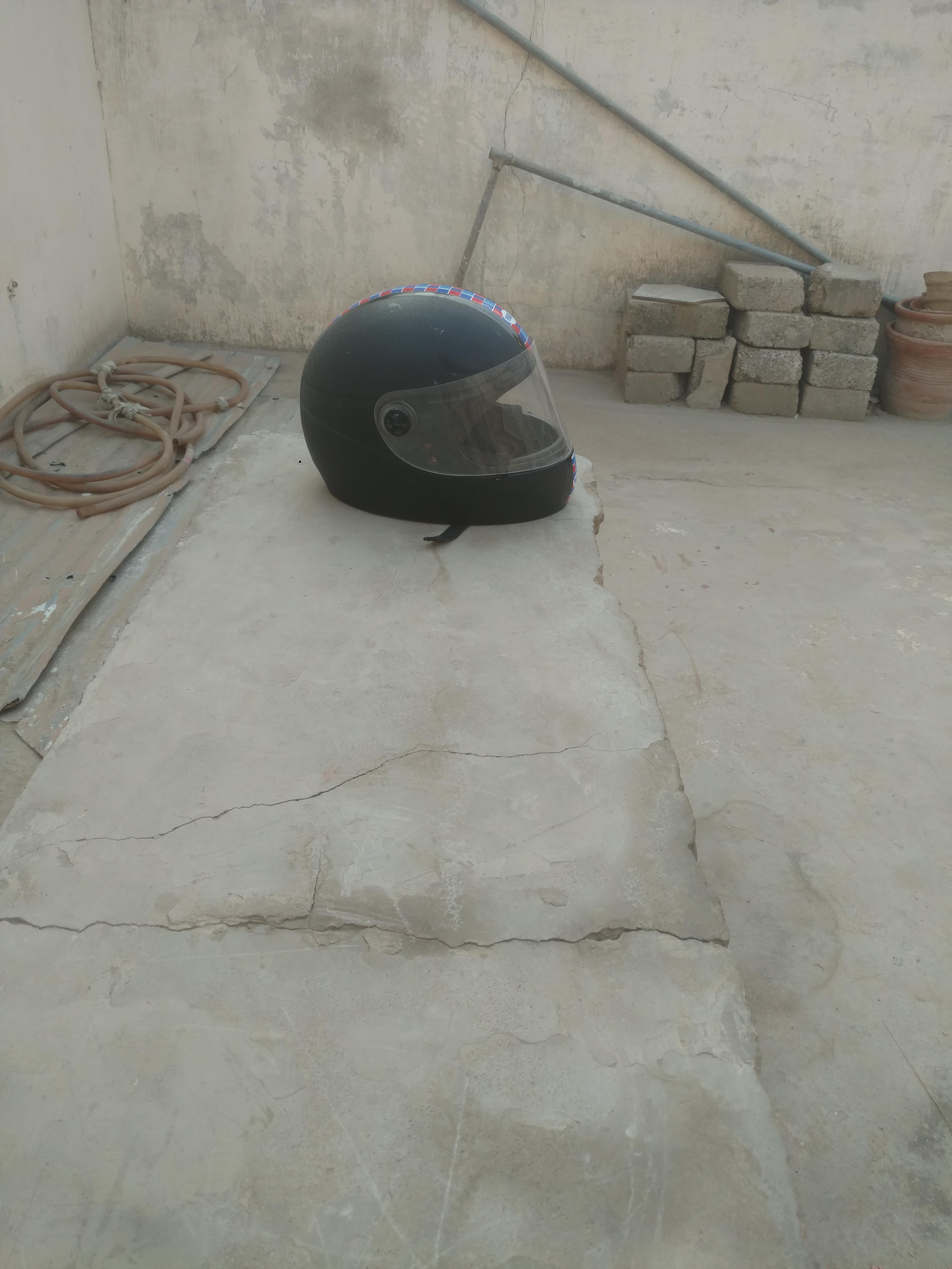helmet: (287, 271, 589, 537)
